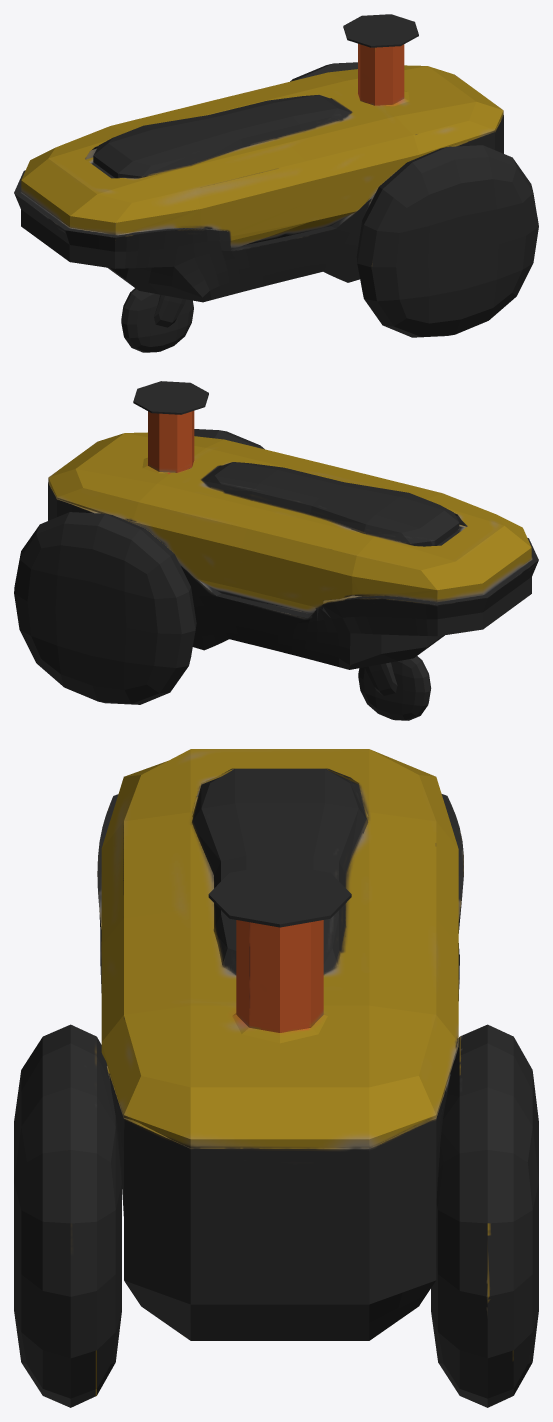
File: HPtestBOT_path.glb
3 views of the same model, one above another, from view 1: azimuth 30°, elevation 25°; view 2: azimuth 150°, elevation 25°; view 3: azimuth 270°, elevation 25° (orthographic). The views are drawn at different scales.
Visible parts, largest first — view 1: HP-bot; view 2: HP-bot; view 3: HP-bot.
Part boxes in pixels (x1,y1,x2,y2): HP-bot: (14, 14, 538, 352); HP-bot: (14, 381, 538, 720); HP-bot: (14, 749, 538, 1407).
Bounding box in the file's own units: 10.27 × 5.95 × 5.79.
1 material, 1 textured.
